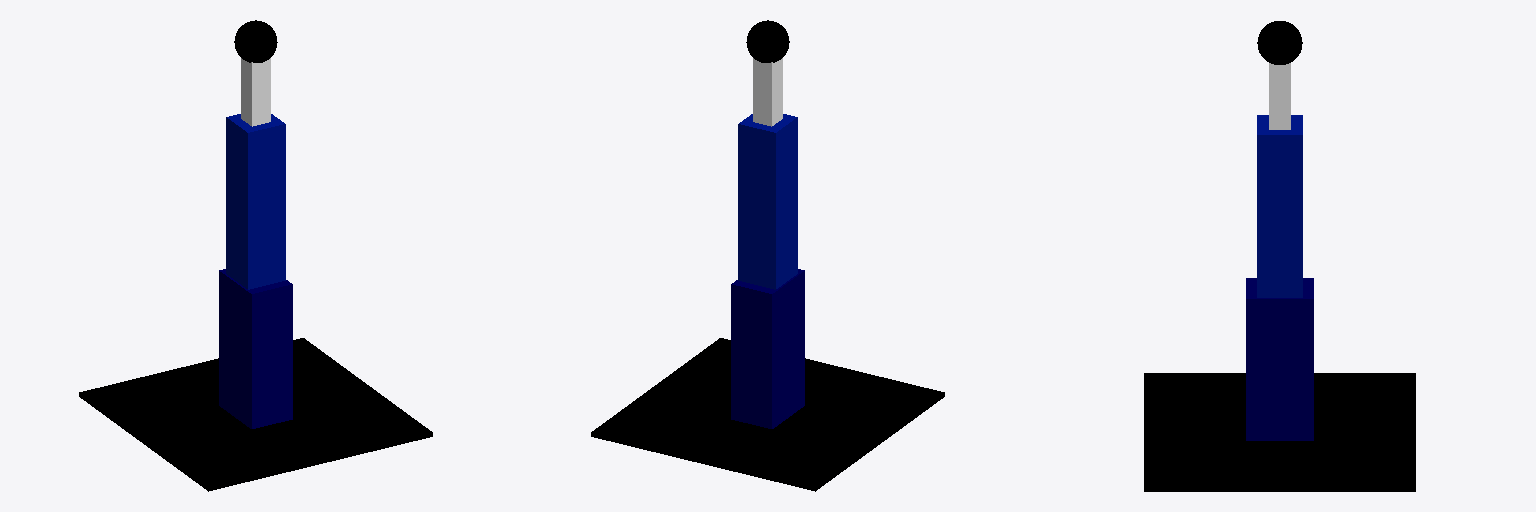
robot.urdf — simple_serial_robot:
<?xml version="1.0"?>
<robot name="simple_serial_robot">

  <material name="blue">
    <color rgba="0 0.1 0.6 1"/>
  </material>
  <material name="dark_blue">
    <color rgba="0 0 0.4 1"/>
  </material>
  <material name="black">
    <color rgba="0 0 0 1"/>
  </material>
  <material name="white">
    <color rgba="1 1 1 1"/>
  </material>

  

  <link name="base_link">
    <visual>
      <geometry>
        <box size="0.6 0.6 0.01" />
      </geometry>
      <origin xyz="0 0 0"/>
      <material name="black"/>
    </visual>
  </link>

  <link name="arm_base">
    <visual>
      <geometry>
        <box size="0.11 0.15 0.35" />
      </geometry>
      <origin xyz="0 0 0.175"/>
      <material name="dark_blue"/>
    </visual>
  </link>

  <!-- change previous joint so it moves around the z axis instead-->
  <joint name="joint1" type="revolute">
    <parent link="base_link"/>
    <child link="arm_base"/>
    <origin xyz="0 0 0"/>
    <axis xyz="0 0 1"/>
    <limit lower="-3.14" upper="3.14" effort="1000.0" velocity="0.5"/>
  </joint>

  <link name="link1">
    <visual>
      <geometry>
        <box size="0.1 0.1 0.4"/>
      </geometry>
      <origin xyz="0 0 0.2"/>
      <material name="blue"/>
    </visual>
  </link>

  <joint name="joint2" type="revolute">
    <parent link="arm_base"/>
    <child link="link1"/>
    <origin xyz="0 0 0.35"/>
    <limit lower="-1.57" upper="1.57" effort="1000.0" velocity="0.5"/>
  </joint>

  <link name="link2">
    <visual>
      <geometry>
        <box size="0.05 0.05 0.2"/>
      </geometry>
      <origin xyz="0 0 0.1"/>
      <material name="white"/>
    </visual>
  </link>

  <joint name="joint3" type="revolute">
    <parent link="link1"/>
    <child link="link2"/>
    <origin xyz="0 0 0.4"/>
    <limit lower="-1.57" upper="1.57" effort="1000.0" velocity="0.5"/>
  </joint>
  
  <link name="link_eef">
    <visual>
      <geometry>
        <sphere radius="0.05"/>
      </geometry>
      <origin xyz="0 0 0"/>
      <material name="black"/>
    </visual>
  </link>

  <joint name="joint_eef" type="fixed">
    <parent link="link2"/>
    <child link="link_eef"/>
    <origin xyz="0 0 0.2"/>
  </joint>
  
</robot>

--- Facts derived from the render (not from the file) ---
The picture shows the robot from 3 angles, left to right: view 1: azimuth 30°, elevation 25°; view 2: azimuth 150°, elevation 25°; view 3: azimuth 270°, elevation 25°; orthographic projection.
Model simple_serial_robot with 5 links and 4 joints (3 revolute, 1 fixed), rooted at base_link, posed every joint at zero.
Visible links, largest first — view 1: base_link, arm_base, link1, link2, link_eef; view 2: base_link, arm_base, link1, link2, link_eef; view 3: base_link, arm_base, link1, link_eef, link2.
Boxes of the visible links, <box> form: base_link: <box>79,338,432,491</box>; arm_base: <box>219,269,292,428</box>; link1: <box>226,114,285,289</box>; link2: <box>241,58,270,126</box>; link_eef: <box>234,20,277,62</box>; base_link: <box>591,338,944,491</box>; arm_base: <box>731,269,804,428</box>; link1: <box>738,114,797,289</box>; link2: <box>753,58,782,126</box>; link_eef: <box>746,20,789,62</box>; base_link: <box>1144,373,1415,491</box>; arm_base: <box>1246,278,1313,440</box>; link1: <box>1257,115,1302,297</box>; link_eef: <box>1257,21,1302,64</box>; link2: <box>1269,63,1290,129</box>.
Size in the robot's own frame: 0.6 by 0.6 by 1 metres.
Geometry: primitives only (box / cylinder / sphere), no mesh files.